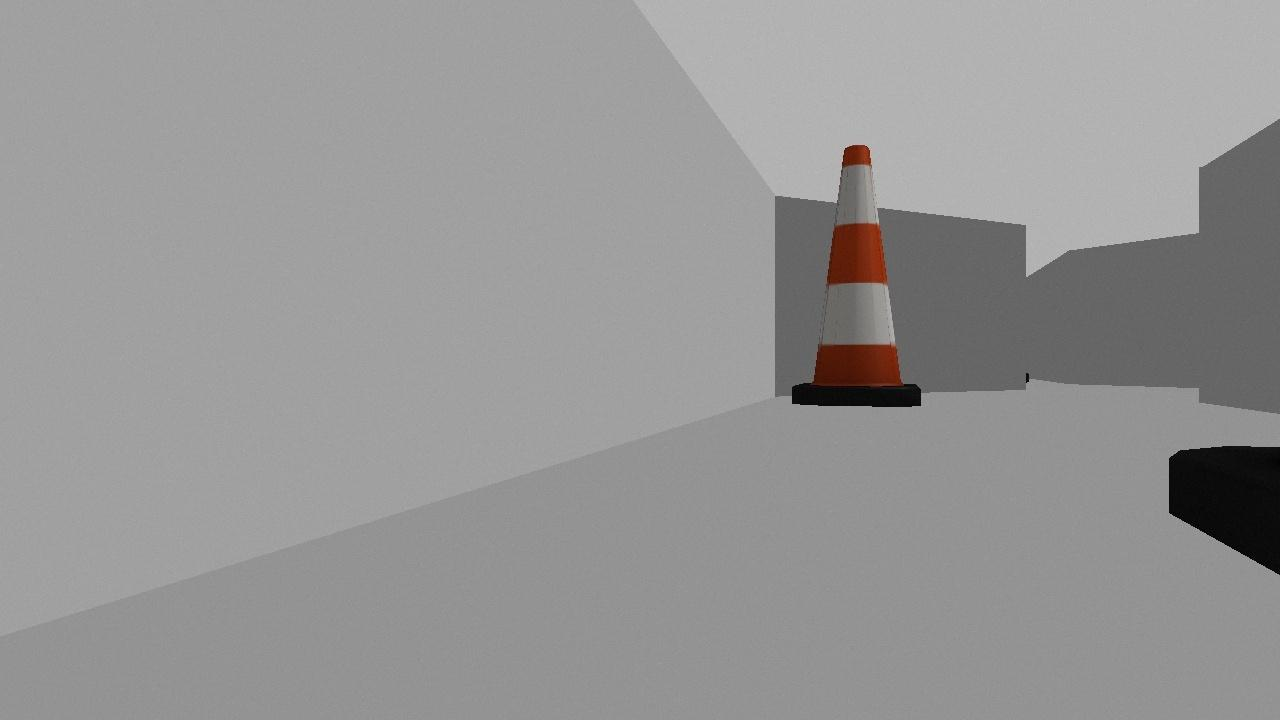cone_barrel: (784, 141, 930, 404)
